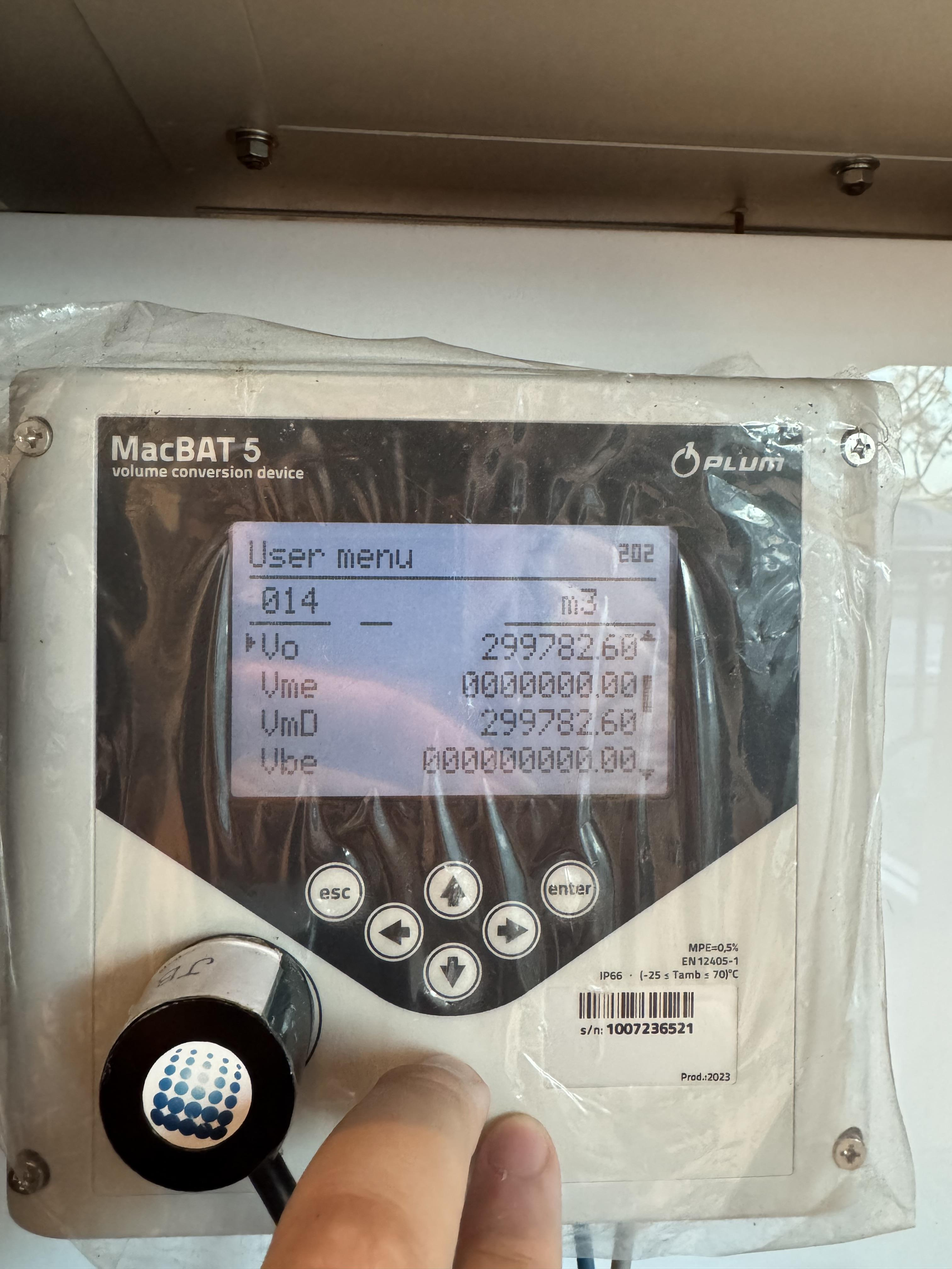digital_screen: (230, 524, 676, 798)
